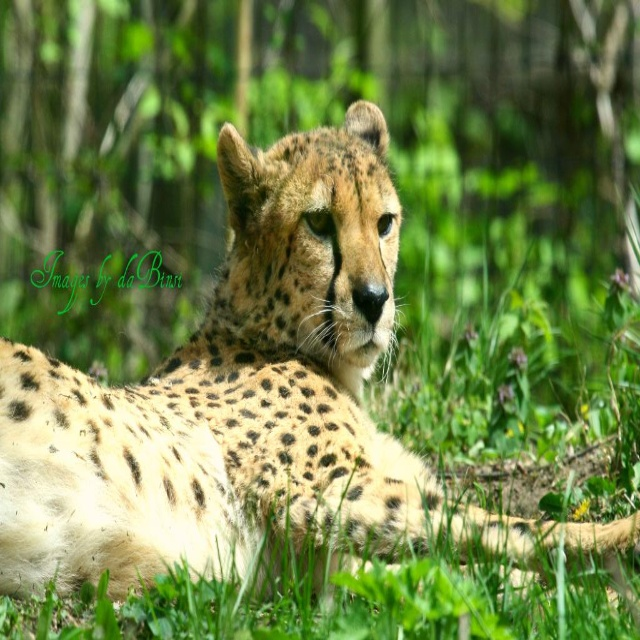Cheetah: (0, 97, 638, 604)
